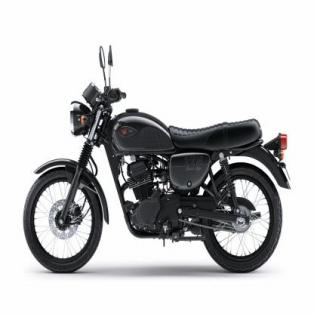Motocicleta: (19, 36, 297, 280)
